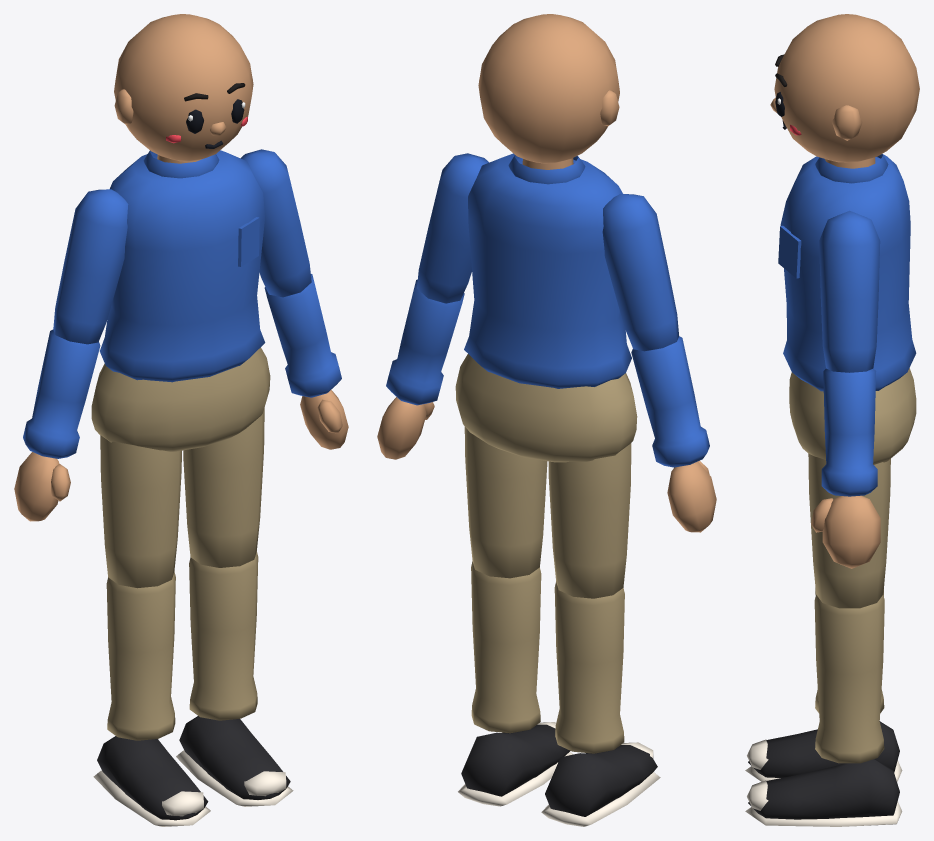
Rendered from char_body.glb.
3 views of the same model, side by side, from view 1: azimuth 30°, elevation 25°; view 2: azimuth 150°, elevation 25°; view 3: azimuth 270°, elevation 25° (orthographic).
Visible parts, largest first — view 1: torso, head, hips, thigh_R, shin_L, shin_R, thigh_L, arm_R, foot_R, foot_L, forearm_R, arm_L (+3 smaller); view 2: torso, head, hips, thigh_R, shin_L, shin_R, thigh_L, arm_R, foot_R, forearm_R, arm_L, foot_L (+3 smaller); view 3: torso, head, shin_L, arm_L, foot_L, forearm_L, thigh_L, hips, hand_L, foot_R.
Boxes of the visible parts, bbox=[...] form: torso: bbox=[99, 150, 265, 382]; head: bbox=[114, 14, 253, 163]; hips: bbox=[91, 347, 270, 451]; thigh_R: bbox=[100, 435, 181, 588]; shin_L: bbox=[189, 551, 258, 720]; shin_R: bbox=[106, 571, 175, 740]; thigh_L: bbox=[183, 408, 264, 567]; arm_R: bbox=[53, 189, 128, 344]; foot_R: bbox=[93, 736, 210, 826]; foot_L: bbox=[176, 716, 293, 806]; forearm_R: bbox=[23, 329, 100, 458]; arm_L: bbox=[240, 149, 311, 297]; torso: bbox=[464, 153, 631, 388]; head: bbox=[478, 14, 619, 169]; hips: bbox=[455, 354, 637, 462]; thigh_R: bbox=[548, 443, 631, 598]; shin_L: bbox=[471, 561, 541, 733]; shin_R: bbox=[554, 581, 624, 753]; thigh_L: bbox=[464, 426, 547, 578]; arm_R: bbox=[602, 194, 678, 351]; foot_R: bbox=[541, 742, 660, 826]; forearm_R: bbox=[631, 336, 709, 467]; arm_L: bbox=[417, 153, 488, 303]; foot_L: bbox=[458, 722, 573, 806]; torso: bbox=[778, 154, 916, 391]; head: bbox=[770, 14, 919, 168]; shin_L: bbox=[814, 594, 884, 763]; arm_L: bbox=[819, 210, 880, 372]; foot_L: bbox=[745, 759, 902, 826]; forearm_L: bbox=[821, 368, 877, 496]; thigh_L: bbox=[808, 453, 890, 608]; hips: bbox=[789, 368, 916, 464]; hand_L: bbox=[811, 495, 880, 568]; foot_R: bbox=[745, 721, 902, 781].
Bounding box in the file's own units: 0.7468 × 1.68 × 0.3437.
